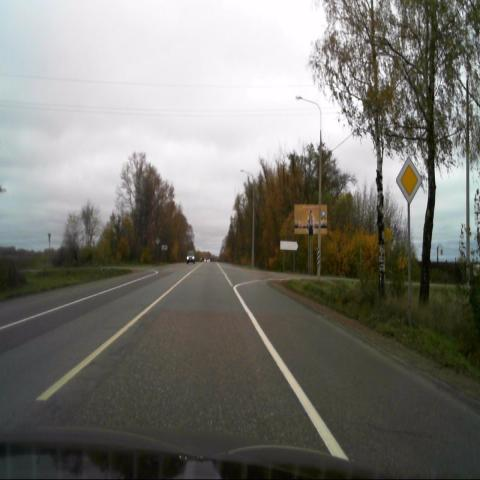2_1: (394, 156, 423, 207)
